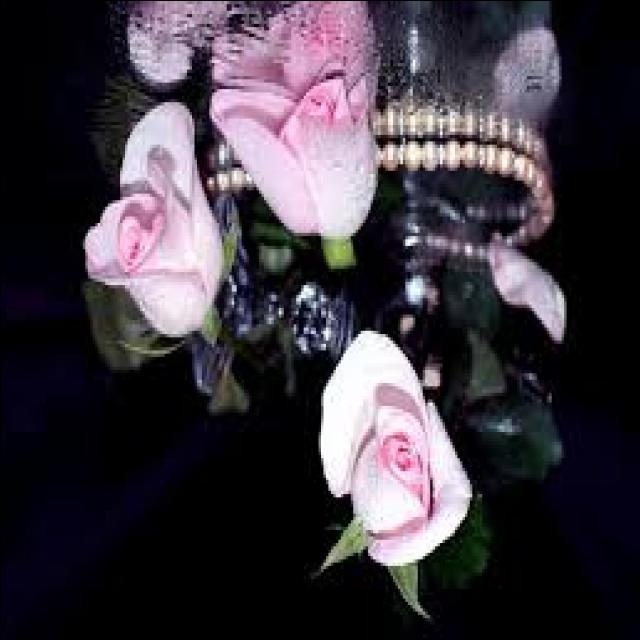rose: (289, 340, 480, 568), (66, 94, 230, 344)
